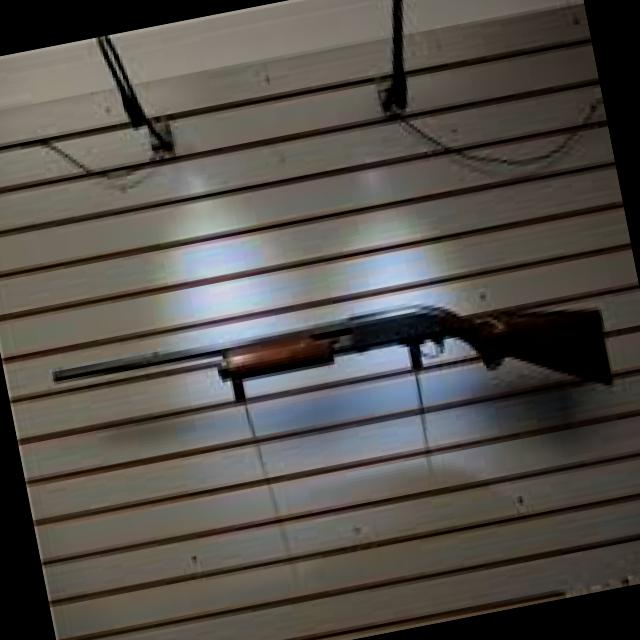long weapon: (33, 278, 627, 446)
